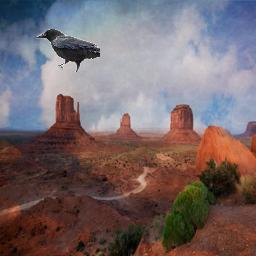Crow: (36, 29, 100, 72)
